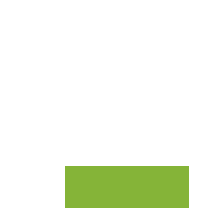rectangle: (65, 166, 188, 207)
